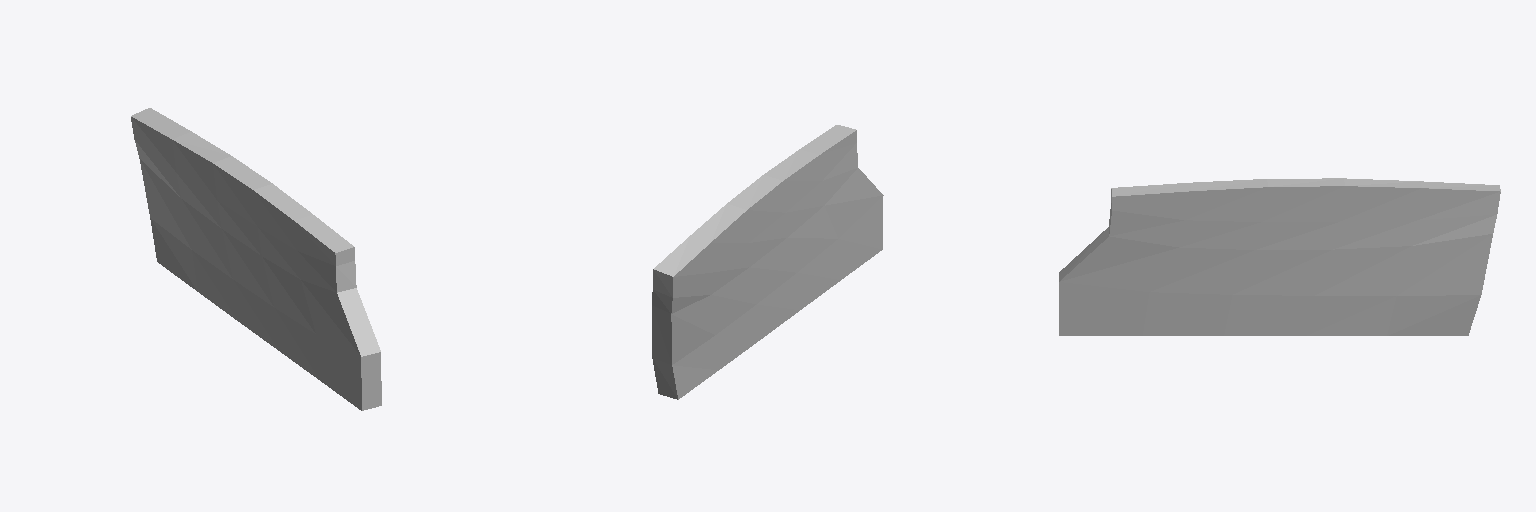
3 renders of one model, left to right at view 1: azimuth 30°, elevation 25°; view 2: azimuth 150°, elevation 25°; view 3: azimuth 270°, elevation 25°, orthographic.
Parts seen in each view (by area): view 1: pe; view 2: pe; view 3: pe.
Boxes of the visible parts, <box> form: pe: <box>131,108,381,410</box>; pe: <box>652,125,883,399</box>; pe: <box>1059,178,1500,335</box>.
Size of the model in its own units: 0.1947 by 0.8916 by 2.41.